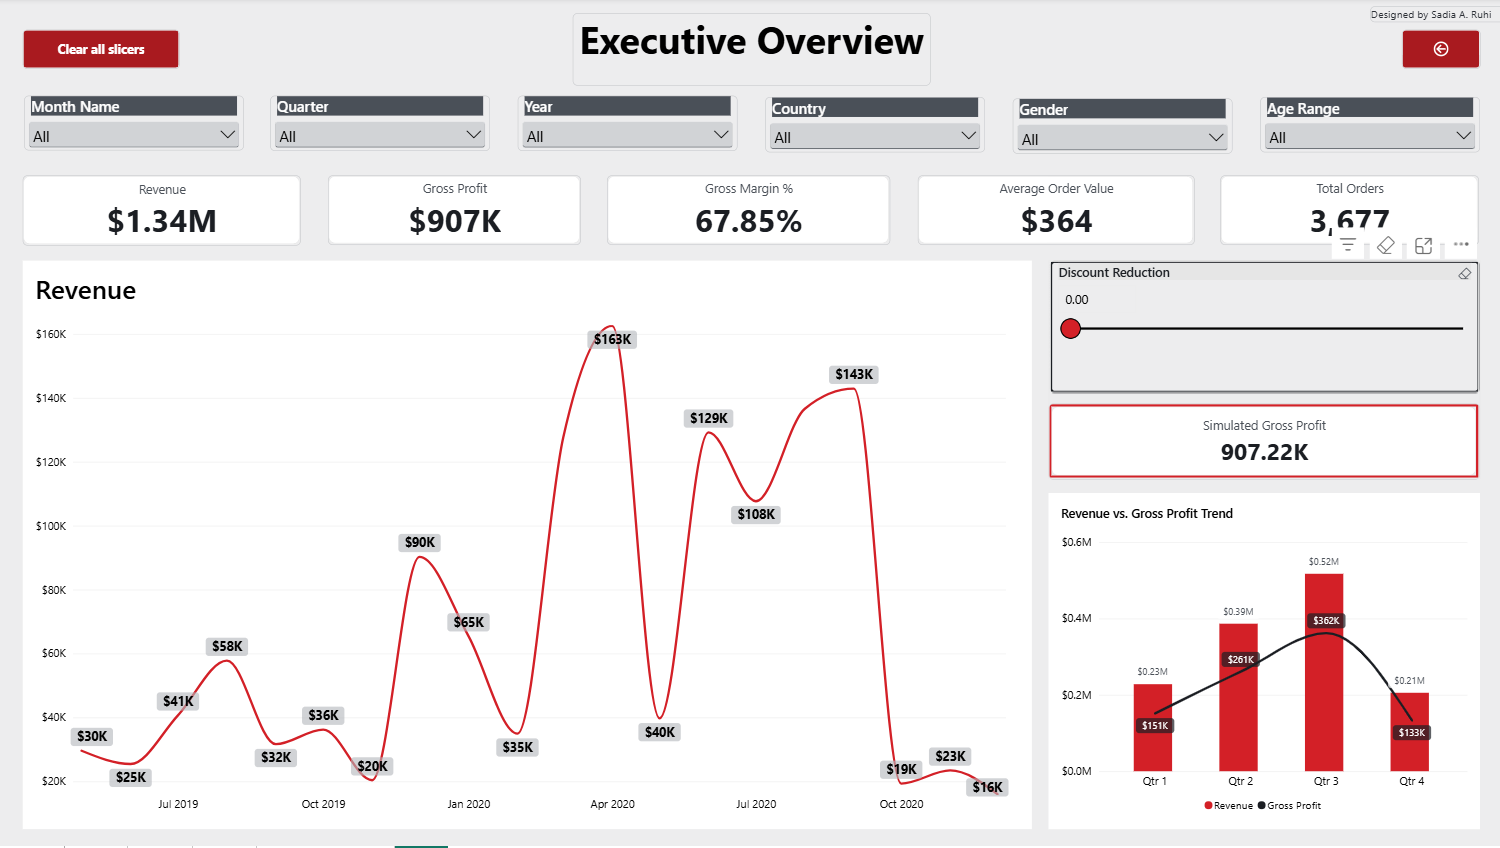

Layout of this report page (visuals, bound fields, positions):
{"tool":"powerbi","page":{"name":"Executive Overview","canvas":[1920,1080],"ordinal":0},"visuals":[{"type":"textbox","box":[732,20,456,92],"z":0},{"type":"slicer","fields":{"Values":["DateTable.Year"]},"box":[662.7,124,280,70.8],"z":1000},{"type":"slicer","fields":{"Values":["Consumers info.Country"]},"box":[977.8,126,280,70.8],"z":2000},{"type":"slicer","fields":{"Values":["Consumers info.Age Range"]},"box":[1608,126,280,70.8],"z":3000},{"type":"slicer","fields":{"Values":["DateTable.Month Name"]},"box":[32.5,125,280,70],"z":4000},{"type":"slicer","fields":{"Values":["DateTable.Quarter"]},"box":[347.6,124,280,70.8],"z":5000},{"type":"cardVisual","fields":{"Data":["_Measures.Total Revenue"]},"box":[32,226.2,354.4,89.8],"z":6000},{"type":"actionButton","box":[32,40,200,50],"z":7000},{"type":"slicer","fields":{"Values":["Discount Reduction.Discount Reduction"]},"box":[1338.9,334,547.6,168.5],"z":7000,"group":"g1"},{"type":"cardVisual","fields":{"Data":["_Measures.Gross Profit"]},"box":[420.6,226.2,322.1,88.8],"z":8000},{"type":"cardVisual","fields":{"Data":["_Measures.Simulated Gross Profit"]},"box":[1338,515.7,549.6,96.5],"z":8000,"group":"g1"},{"type":"cardVisual","fields":{"Data":["_Measures.Gross Margin %"]},"box":[776.8,226,360.4,88.8],"z":9000},{"type":"cardVisual","fields":{"Data":["_Measures.Average Order Value (AOV)"]},"box":[1171.4,226,352.7,88.8],"z":10000},{"type":"lineClusteredColumnComboChart","title":"Revenue vs. Gross Profit Trend","fields":{"Category":["DateTable.Date.Variation.Date Hierarchy.Year","DateTable.Date.Variation.Date Hierarchy.Quarter","DateTable.Date.Variation.Date Hierarchy.Month","DateTable.Date.Variation.Date Hierarchy.Day"],"Y":["_Measures.Revenue"],"Y2":["_Measures.Gross Profit"]},"box":[1338,630,550,428],"z":11000},{"type":"cardVisual","fields":{"Data":["_Measures.Total Orders"]},"box":[1558.3,226.2,329.7,88.8],"z":13000},{"type":"actionButton","box":[1788,40,100,50],"z":14000},{"type":"slicer","fields":{"Values":["Consumers info.Gender"]},"box":[1292.9,128,280,70.8],"z":15000},{"type":"lineChart","title":"Revenue","fields":{"Category":["DateTable.Date.Variation.Date Hierarchy.Year","DateTable.Date.Variation.Date Hierarchy.Quarter","DateTable.Date.Variation.Date Hierarchy.Month","DateTable.Date.Variation.Date Hierarchy.Day"],"Y":["_Measures.Revenue"]},"box":[32,334,1286,724],"z":16000},{"type":"group","id":"g1","title":"Group 1","box":[1338,334,550,278],"z":17000},{"type":"textbox","box":[1748,10,172,20],"z":18000}]}

Visuals, with their boxes in screenshot pixels (x1, y1, x2, y2), scaled from the page's 1920x1080 canvas onto the 1500x848 screenshot:
textbox: detection(572, 16, 928, 88)
slicer - DateTable.Year: detection(518, 97, 736, 153)
slicer - Consumers info.Country: detection(764, 99, 983, 155)
slicer - Consumers info.Age Range: detection(1256, 99, 1475, 155)
slicer - DateTable.Month Name: detection(25, 98, 244, 153)
slicer - DateTable.Quarter: detection(272, 97, 490, 153)
cardVisual - _Measures.Total Revenue: detection(25, 178, 302, 248)
actionButton: detection(25, 31, 181, 71)
slicer - Discount Reduction.Discount Reduction: detection(1046, 262, 1474, 395)
cardVisual - _Measures.Gross Profit: detection(329, 178, 580, 247)
cardVisual - _Measures.Simulated Gross Profit: detection(1045, 405, 1475, 481)
cardVisual - _Measures.Gross Margin %: detection(607, 177, 888, 247)
cardVisual - _Measures.Average Order Value (AOV): detection(915, 177, 1191, 247)
"Revenue vs. Gross Profit Trend" lineClusteredColumnComboChart: detection(1045, 495, 1475, 831)
cardVisual - _Measures.Total Orders: detection(1217, 178, 1475, 247)
actionButton: detection(1397, 31, 1475, 71)
slicer - Consumers info.Gender: detection(1010, 101, 1229, 156)
"Revenue" lineChart: detection(25, 262, 1030, 831)
"Group 1" group: detection(1045, 262, 1475, 481)
textbox: detection(1366, 8, 1499, 24)
